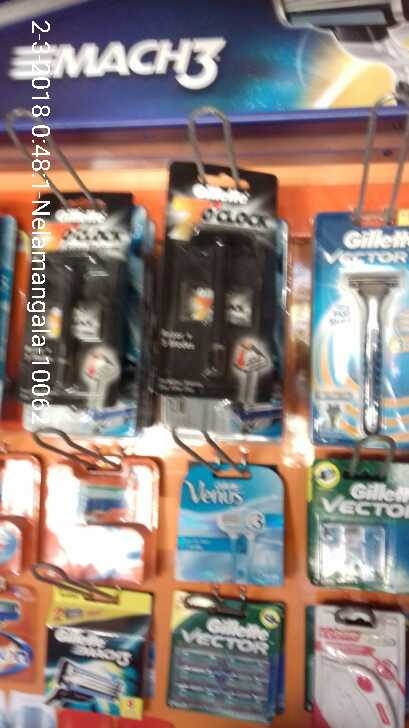beauty: (160, 159, 309, 427), (317, 214, 409, 435), (33, 197, 131, 395), (168, 590, 290, 715), (42, 594, 160, 721), (174, 470, 290, 588), (306, 459, 409, 580)
